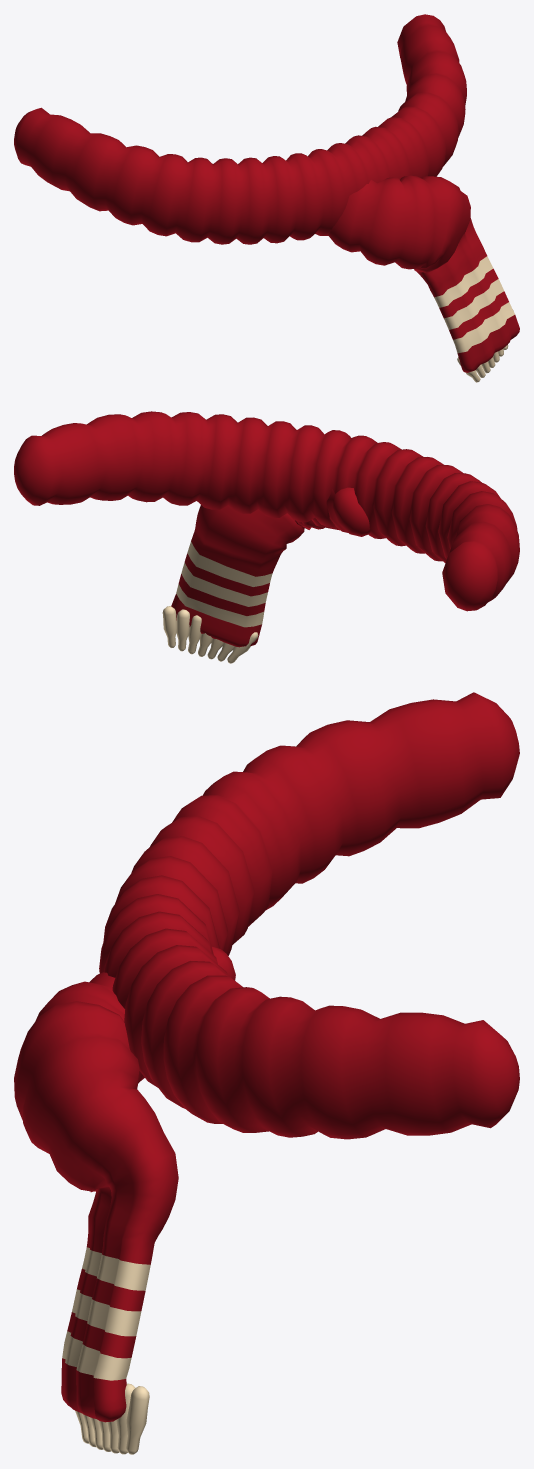
Rendered from knit-scarf.glb.
The picture shows the model from 3 angles, top to bottom: view 1: azimuth 30°, elevation 25°; view 2: azimuth 150°, elevation 25°; view 3: azimuth 270°, elevation 25°; orthographic projection. The views are drawn at different scales.
Visible parts, largest first — view 1: knit_scarf_red, knit_scarf_cream; view 2: knit_scarf_red, knit_scarf_cream; view 3: knit_scarf_red, knit_scarf_cream.
Part boxes in pixels (box(x1,y1,x2,y2)): knit_scarf_red: box(14, 14, 519, 372); knit_scarf_cream: box(434, 256, 514, 382); knit_scarf_red: box(14, 411, 519, 647); knit_scarf_cream: box(162, 541, 272, 663); knit_scarf_red: box(14, 692, 519, 1422); knit_scarf_cream: box(62, 1247, 150, 1454).
Size of the model in its own units: 1.25 by 0.7527 by 0.7336.
